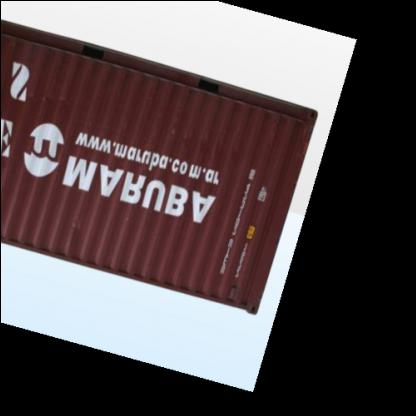Damage: (3, 88, 70, 114), (162, 107, 186, 158), (201, 135, 241, 165), (58, 216, 90, 238)
